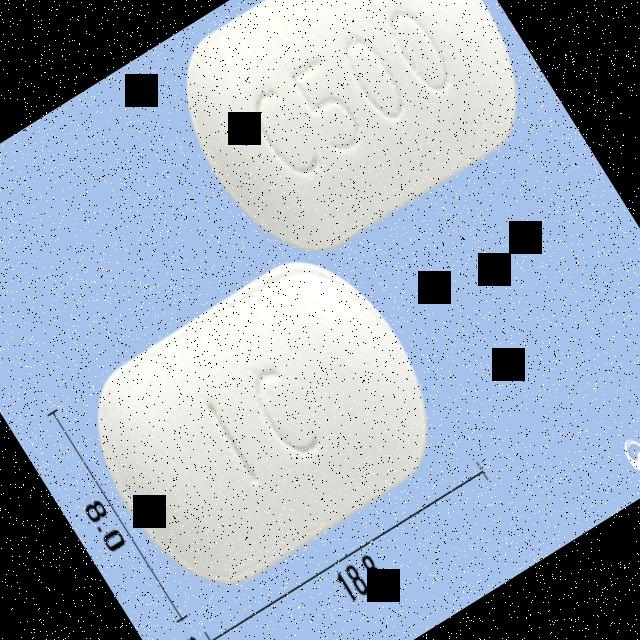Ciroctan: (54, 224, 472, 622), (140, 0, 562, 292)
